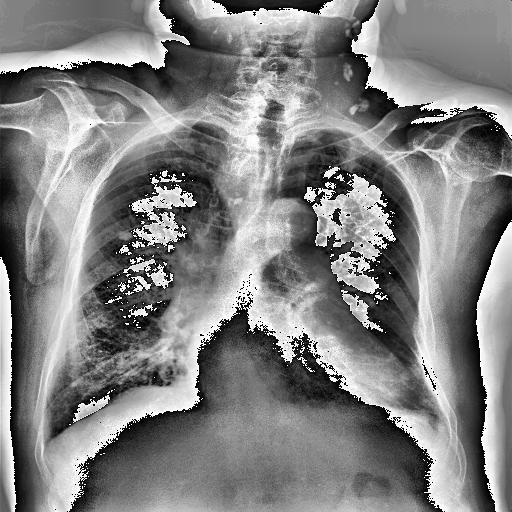0- Aortic enlargement: (222, 199, 317, 283), (267, 200, 318, 262), (264, 196, 318, 254)
10- Pleural effusion: (421, 401, 453, 439), (31, 430, 56, 454)
11- Pleural thickening: (150, 113, 230, 136), (294, 117, 344, 146), (421, 401, 453, 439), (31, 430, 56, 454)
13- Pulmonary fibrosis: (148, 120, 226, 188)
2- Calcification: (340, 16, 372, 116), (340, 14, 370, 116), (344, 16, 370, 42), (348, 94, 370, 115), (338, 61, 358, 82), (118, 230, 134, 242), (118, 229, 132, 241)
3- Cardiomegaly: (190, 322, 410, 406), (189, 343, 413, 408), (180, 364, 414, 404)
7- Lung Opacity: (148, 120, 226, 188), (216, 128, 254, 212), (396, 366, 440, 424)
8- Nodule-Mass: (118, 230, 134, 242), (116, 230, 133, 240), (71, 382, 78, 388)
9- Other lesion: (148, 120, 226, 188), (58, 384, 168, 432), (80, 379, 166, 427)
